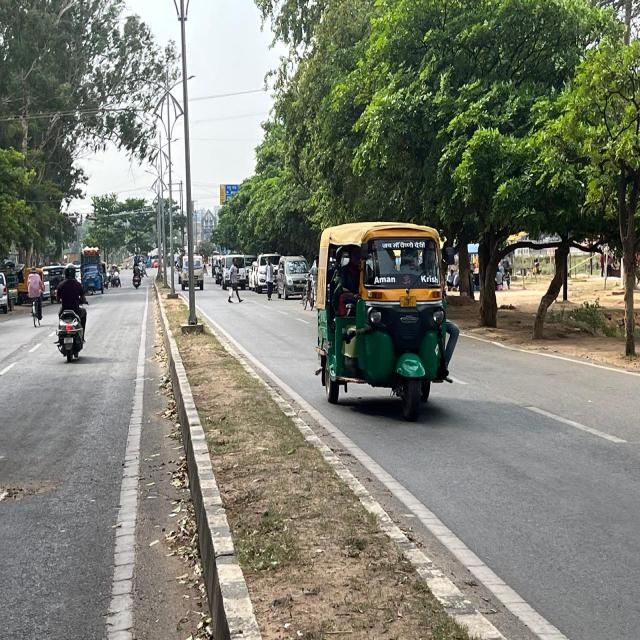bike: (54, 304, 86, 366), (109, 267, 124, 288), (132, 272, 144, 292)
car: (277, 254, 312, 300), (253, 253, 280, 291), (0, 272, 11, 314)
